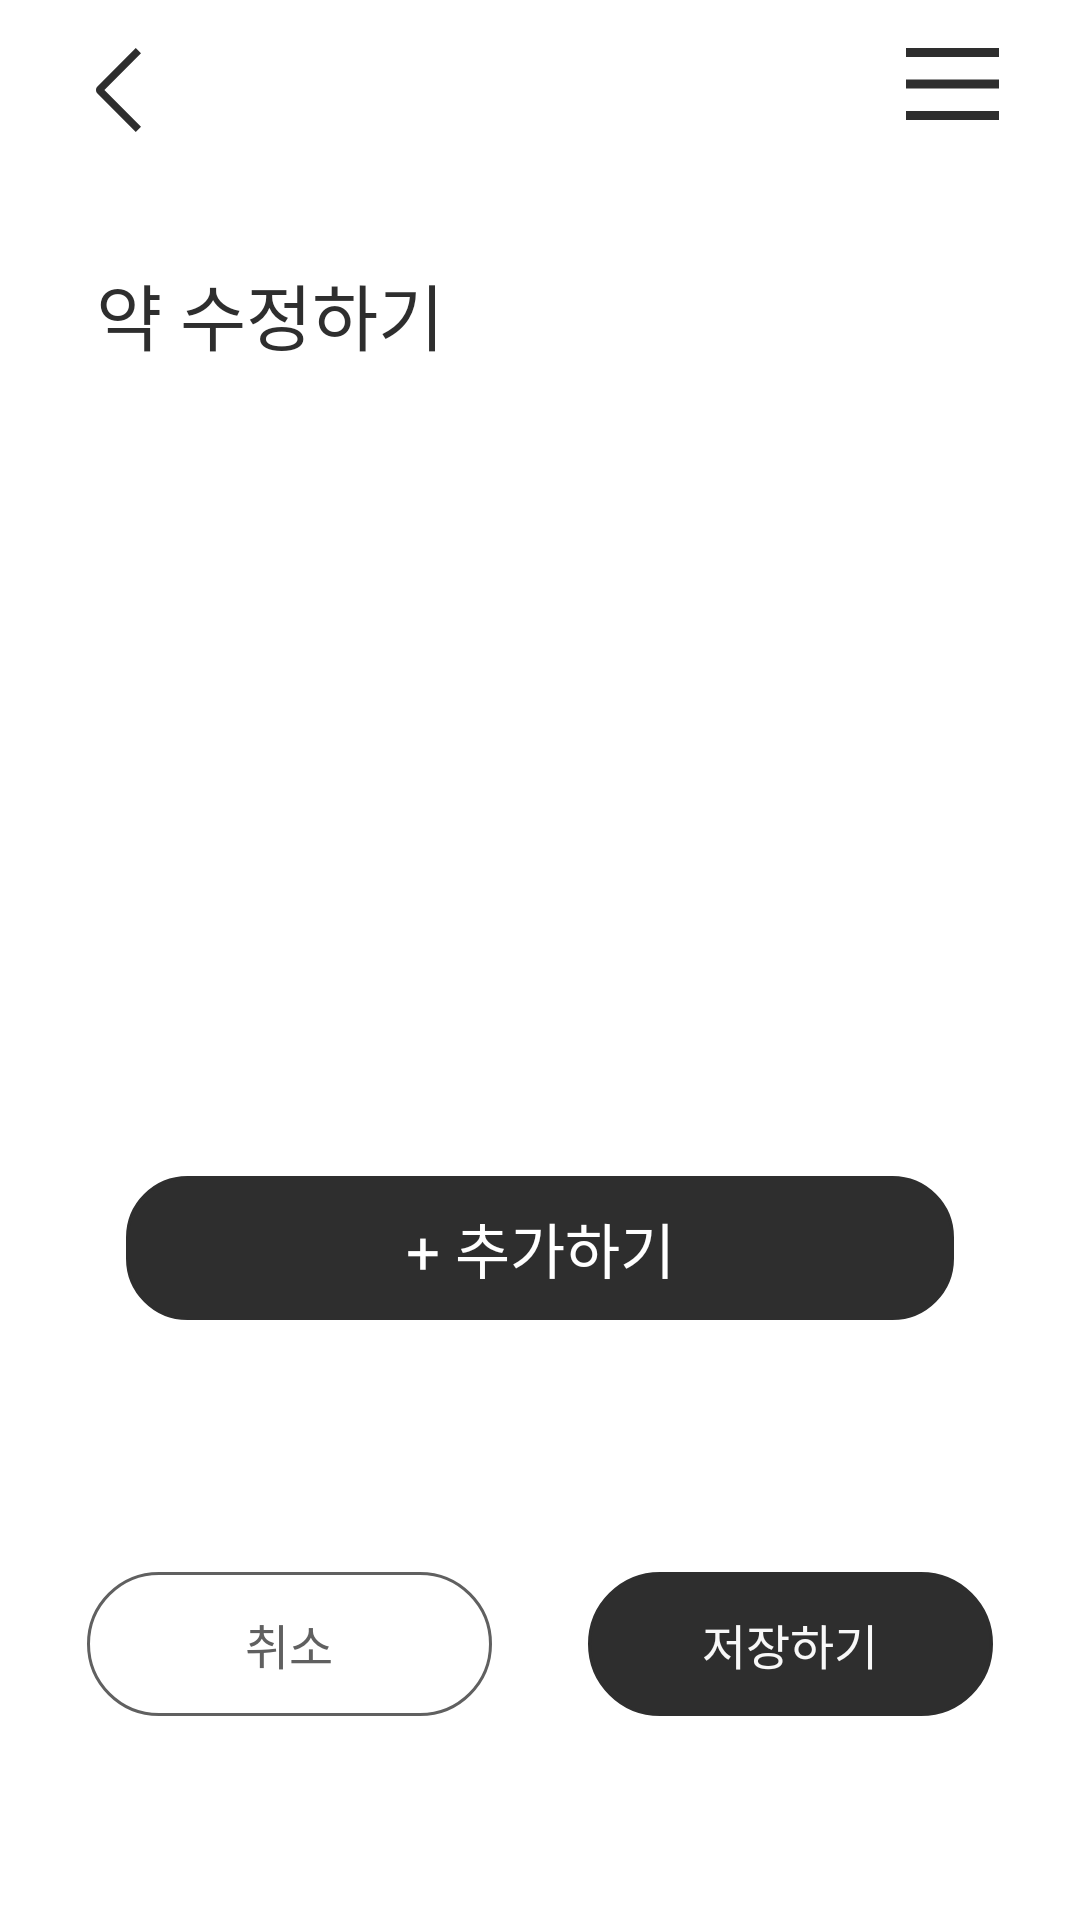

Named icons in this screenshot (1080 x 1920) and their centers, point (x, y):
menu: point (952, 84)
page back: point (118, 90)
